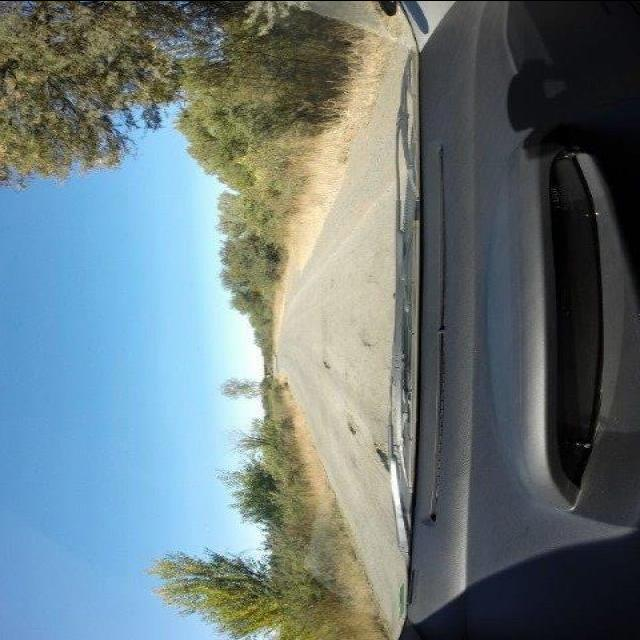lubang: (371, 434, 388, 478), (354, 330, 376, 355), (342, 412, 360, 440), (322, 355, 334, 373)
